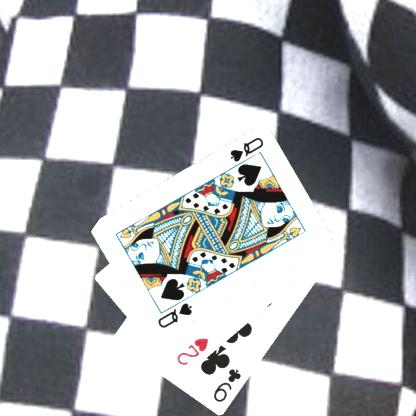2H: (173, 335, 210, 367)
9C: (210, 366, 242, 404)
QS: (154, 300, 194, 330), (227, 135, 265, 164)
